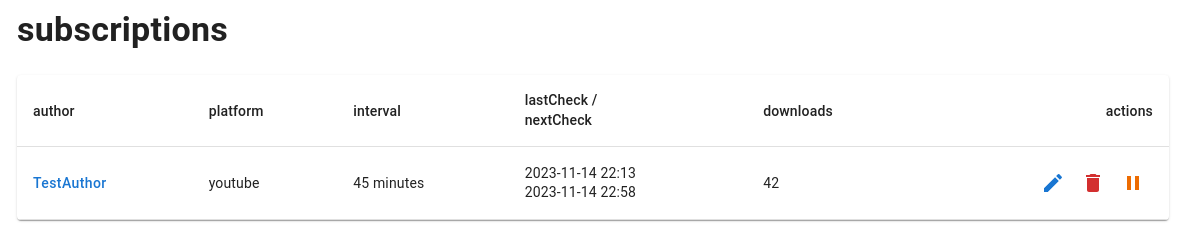
Test case: SubscriptionsPage › switches a subscription interval cell into edit mode
Step 1. Click the button titled "editInterval" → (1053, 183), box [1033, 163, 1073, 203]
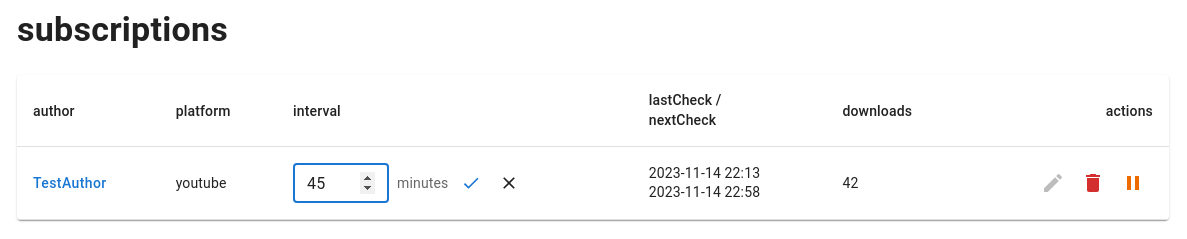
Now the number field named "checkIntervalMinutes" is shown, box [293, 163, 389, 203]
Now the button titled "save" is shown, box [456, 168, 486, 198]
Now the button titled "cancel" is shown, box [494, 168, 524, 198]
